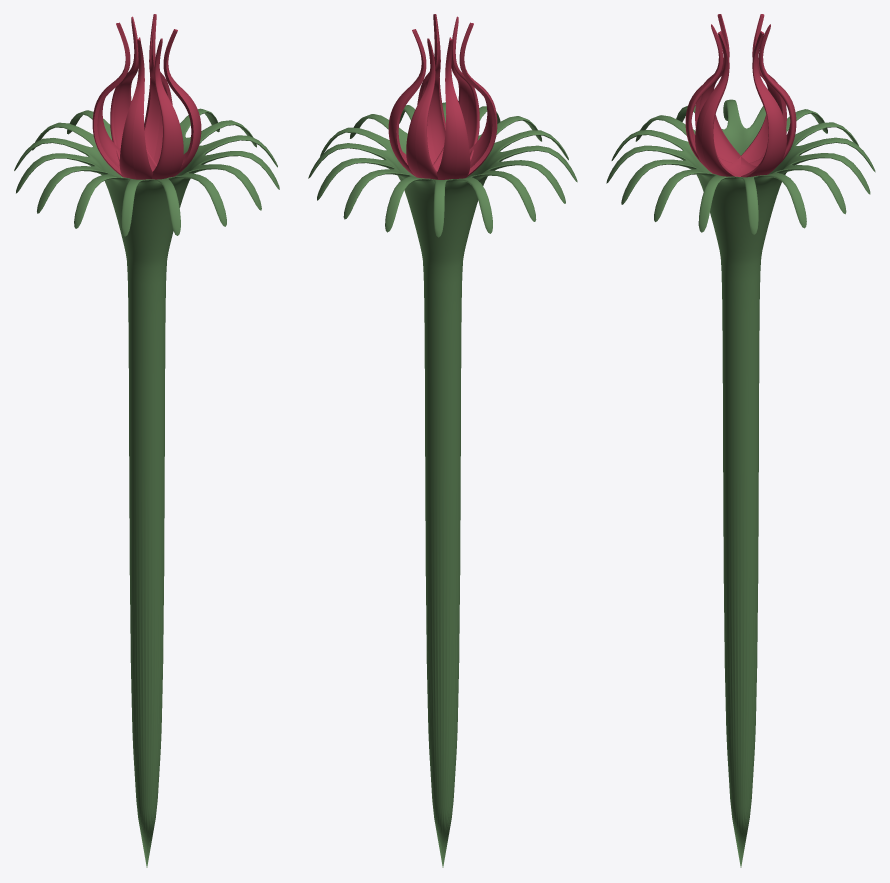
Rendered from Statue_Tentacles.fbx.
3 renders of one model, left to right at view 1: azimuth 30°, elevation 25°; view 2: azimuth 150°, elevation 25°; view 3: azimuth 270°, elevation 25°, orthographic.
Visible parts, largest first — view 1: Tentacle Shaft.001, Tentacles.003, Tentacles.005, Tentacles.004; view 2: Tentacle Shaft.001, Tentacles.004, Tentacles.005, Tentacles.003; view 3: Tentacle Shaft.001, Tentacles.003, Tentacles.004, Tentacles.005.
Part boxes in pixels (x1,y1,x2,y2): Tentacle Shaft.001: [14, 108, 279, 867]; Tentacles.003: [119, 14, 172, 179]; Tentacles.005: [110, 16, 183, 179]; Tentacles.004: [92, 22, 201, 177]; Tentacle Shaft.001: [308, 102, 577, 867]; Tentacles.004: [417, 14, 470, 179]; Tentacles.005: [406, 16, 479, 179]; Tentacles.003: [388, 22, 497, 177]; Tentacle Shaft.001: [606, 99, 875, 867]; Tentacles.003: [695, 14, 786, 177]; Tentacles.004: [695, 14, 786, 176]; Tentacles.005: [685, 24, 796, 174].
Size of the model in its own units: 8.49 by 29.47 by 8.49.
